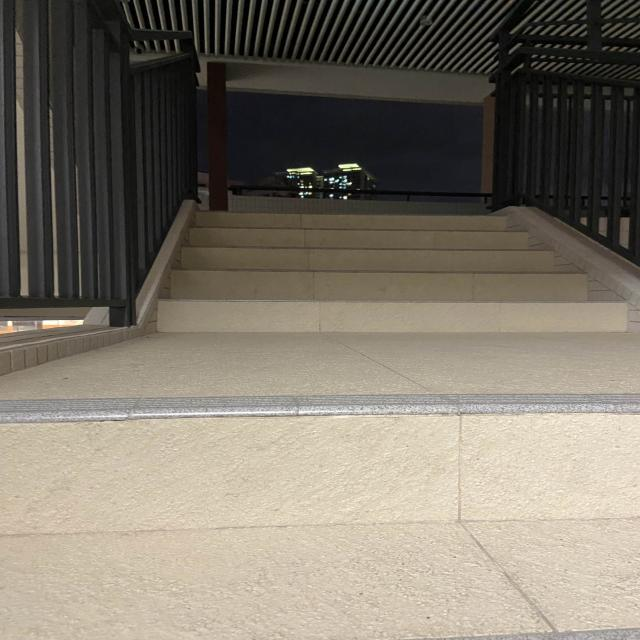Stairs: (127, 176, 640, 348)
